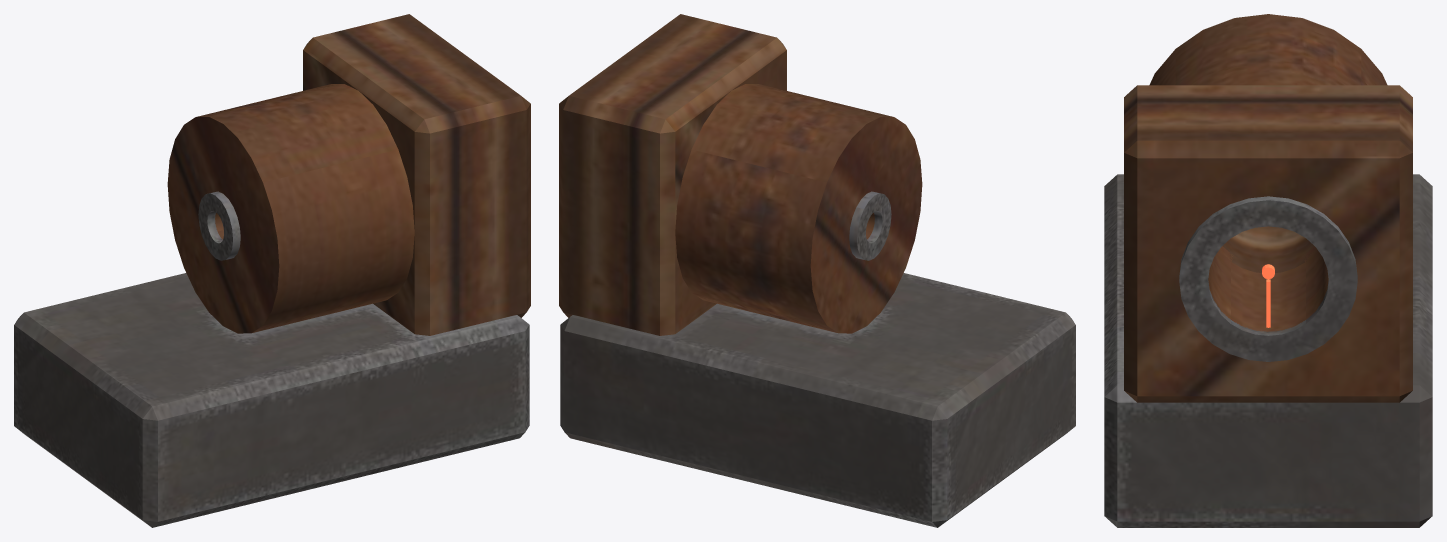
File: pinhole.glb
3 renders of one model, left to right at view 1: azimuth 30°, elevation 25°; view 2: azimuth 150°, elevation 25°; view 3: azimuth 270°, elevation 25°, orthographic. The views are drawn at different scales.
Parts seen in each view (by area): view 1: pinhole; view 2: pinhole; view 3: pinhole, Reticle.
Part boxes in pixels (x1,y1,x2,y2): pinhole: (14,14,530,527); pinhole: (559,14,1075,527); pinhole: (1104,14,1432,527); Reticle: (1262,264,1274,327).
Bounding box in the file's own units: 0.0417 × 0.033 × 0.025.
Materials: 2 (1 with a texture image).
